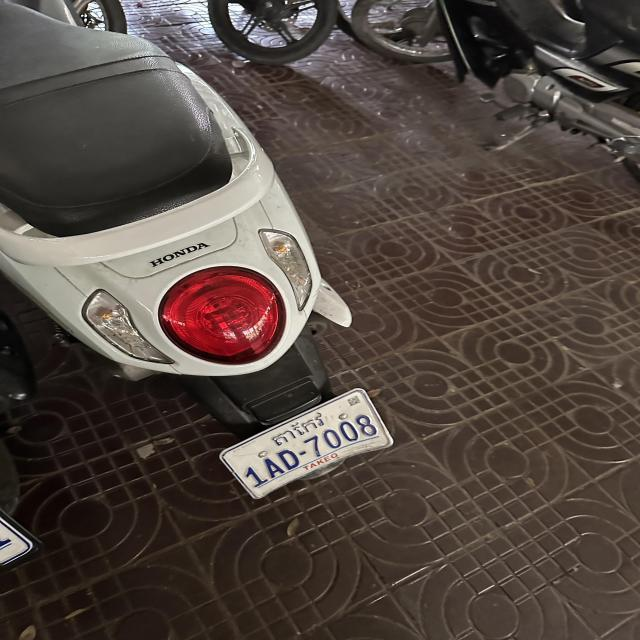Takeo: (268, 410, 324, 446)
